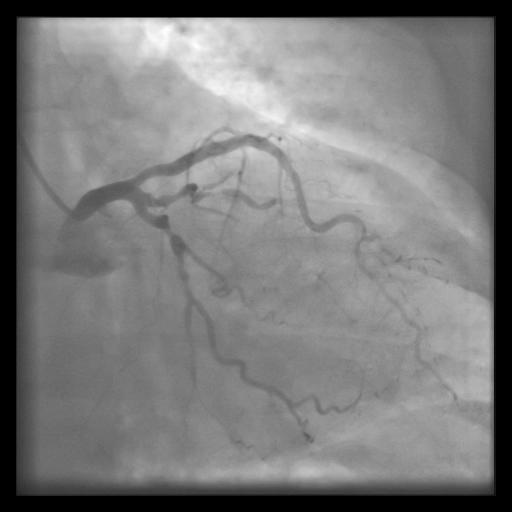Stenosis: (155, 215, 180, 246)
